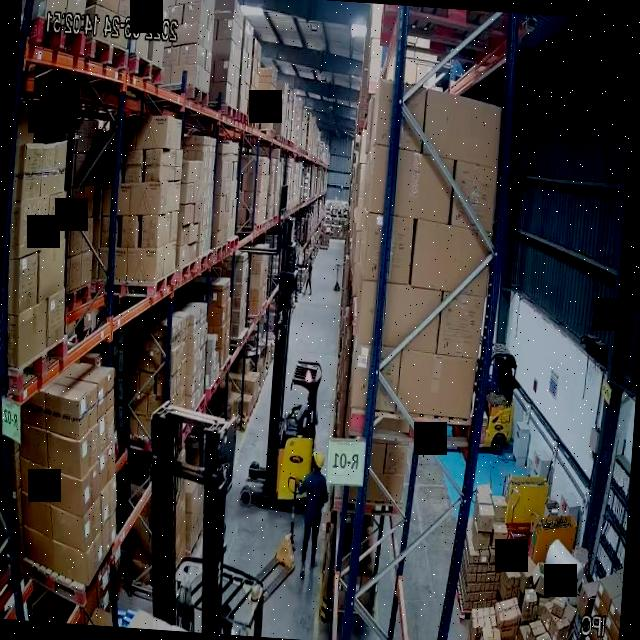box: (365, 149, 455, 219), (359, 287, 443, 353), (408, 230, 497, 288), (394, 356, 475, 418), (365, 81, 429, 152), (421, 102, 502, 158), (15, 133, 69, 204), (449, 169, 502, 227), (43, 382, 96, 435), (8, 296, 46, 367), (49, 493, 100, 545), (50, 526, 100, 579), (43, 426, 95, 476), (47, 461, 98, 509), (347, 472, 405, 509), (14, 192, 45, 258), (37, 235, 65, 300), (13, 252, 38, 315), (43, 285, 67, 340), (46, 189, 69, 244), (496, 556, 524, 601), (135, 114, 168, 150), (128, 181, 162, 215), (126, 248, 157, 282), (494, 596, 523, 631), (98, 248, 125, 281), (531, 567, 559, 596), (384, 442, 409, 474), (119, 214, 138, 249), (143, 151, 162, 182), (188, 301, 207, 332), (169, 63, 195, 85), (473, 504, 492, 534), (125, 148, 142, 181), (490, 522, 510, 549), (176, 21, 199, 44), (141, 217, 157, 250), (531, 620, 556, 640), (186, 134, 216, 150), (218, 162, 233, 193), (211, 36, 230, 60), (178, 42, 197, 65), (209, 280, 227, 304), (492, 495, 509, 520), (183, 159, 200, 184), (550, 594, 569, 615), (182, 2, 200, 24), (162, 45, 179, 68), (209, 81, 228, 101), (212, 59, 228, 82), (215, 207, 230, 231), (257, 82, 276, 100), (207, 306, 224, 326), (207, 326, 224, 346), (213, 0, 237, 14), (244, 370, 258, 393), (219, 140, 239, 156), (216, 17, 231, 38), (146, 394, 161, 415), (134, 393, 148, 415), (258, 68, 278, 83), (137, 347, 150, 370), (255, 113, 275, 127), (239, 395, 252, 415), (148, 351, 160, 371), (140, 374, 154, 391), (161, 352, 174, 370), (217, 194, 229, 212), (257, 101, 274, 113), (249, 274, 260, 290), (238, 358, 249, 374), (251, 258, 261, 274)
